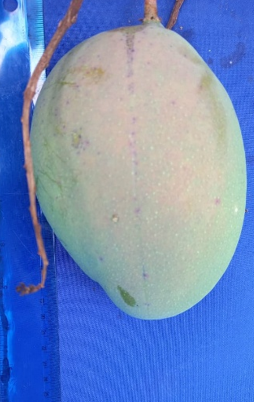Mango-sano: (30, 0, 246, 319)
